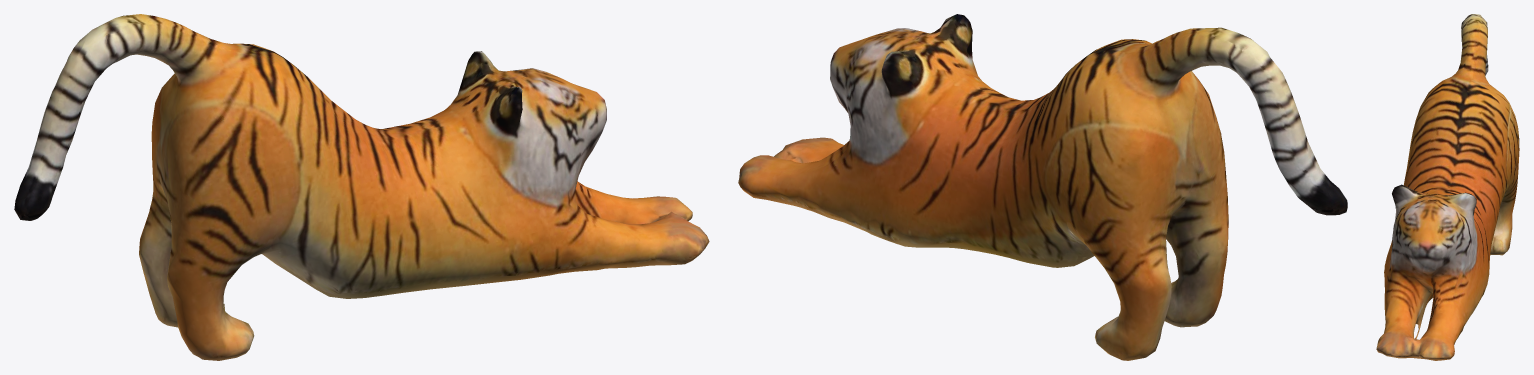
Rendered from stretching_tiger.fbx.
3 views of the same model, side by side, from view 1: azimuth 30°, elevation 25°; view 2: azimuth 150°, elevation 25°; view 3: azimuth 270°, elevation 25° (orthographic). The views are drawn at different scales.
Parts seen in each view (by area): view 1: stretchingti; view 2: stretchingti; view 3: stretchingti.
Part boxes in pixels (x1=…): stretchingti: x1=14, y1=14, x2=709, y2=360; stretchingti: x1=738, y1=14, x2=1347, y2=360; stretchingti: x1=1376, y1=14, x2=1519, y2=360.
Size of the model in its own units: 8.64 by 4.37 by 2.7.
1 material, 1 textured.
